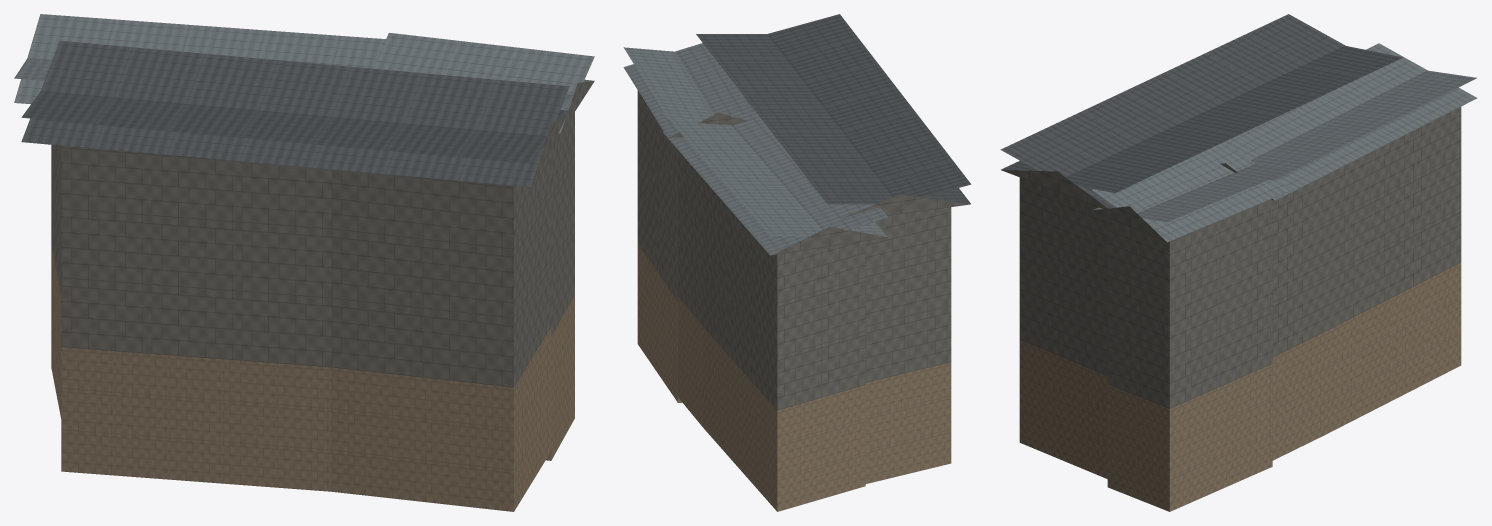
The model's file is bld_c32_-40_448.gltf.
3 renders of one model, left to right at view 1: azimuth 30°, elevation 25°; view 2: azimuth 150°, elevation 25°; view 3: azimuth 270°, elevation 25°, orthographic. The views are drawn at different scales.
Visible parts, largest first — view 1: bld_c32_-40_448; view 2: bld_c32_-40_448; view 3: bld_c32_-40_448.
Part boxes in pixels (x1,y1,x2,y2): bld_c32_-40_448: [14, 14, 594, 511]; bld_c32_-40_448: [623, 14, 971, 511]; bld_c32_-40_448: [1000, 14, 1477, 511].
Bounding box in the file's own units: 21.47 × 15 × 21.41.
5 materials, 5 textured.
